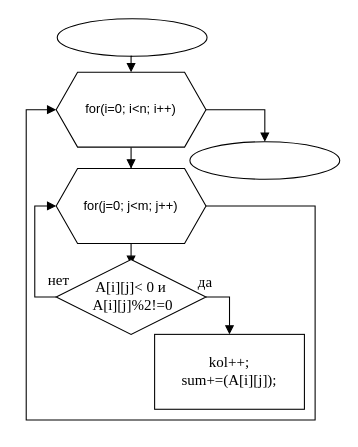
Image size: 358x447. Some labels were removed from this diagram. Each missing label, with the centre of its shape:
"kolvoSum КОНЕЦ" belongs at (x=264, y=160).
"kolvoSum НАЧАЛО" belongs at (x=131, y=37).
